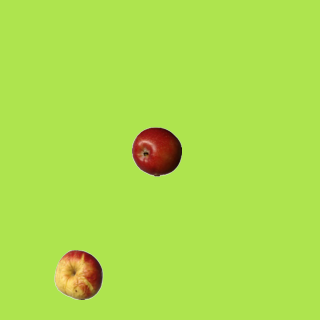Apple Braeburn: (131, 126, 181, 176)
Apple Red Yellow 1: (53, 249, 103, 299)
